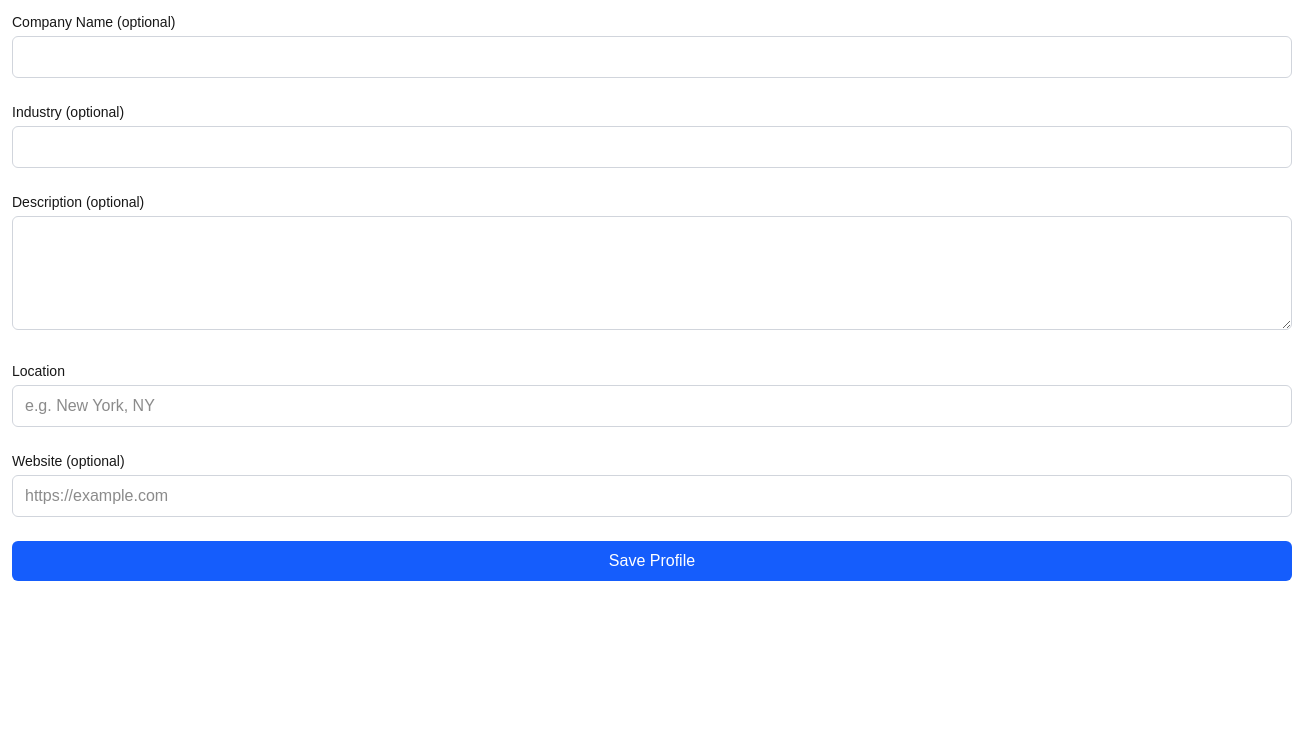
Test case: ClientProfileForm › validates required fields
// Submit without required fields
Click the button "Save Profile": point(652, 561) [12,541,1292,581]
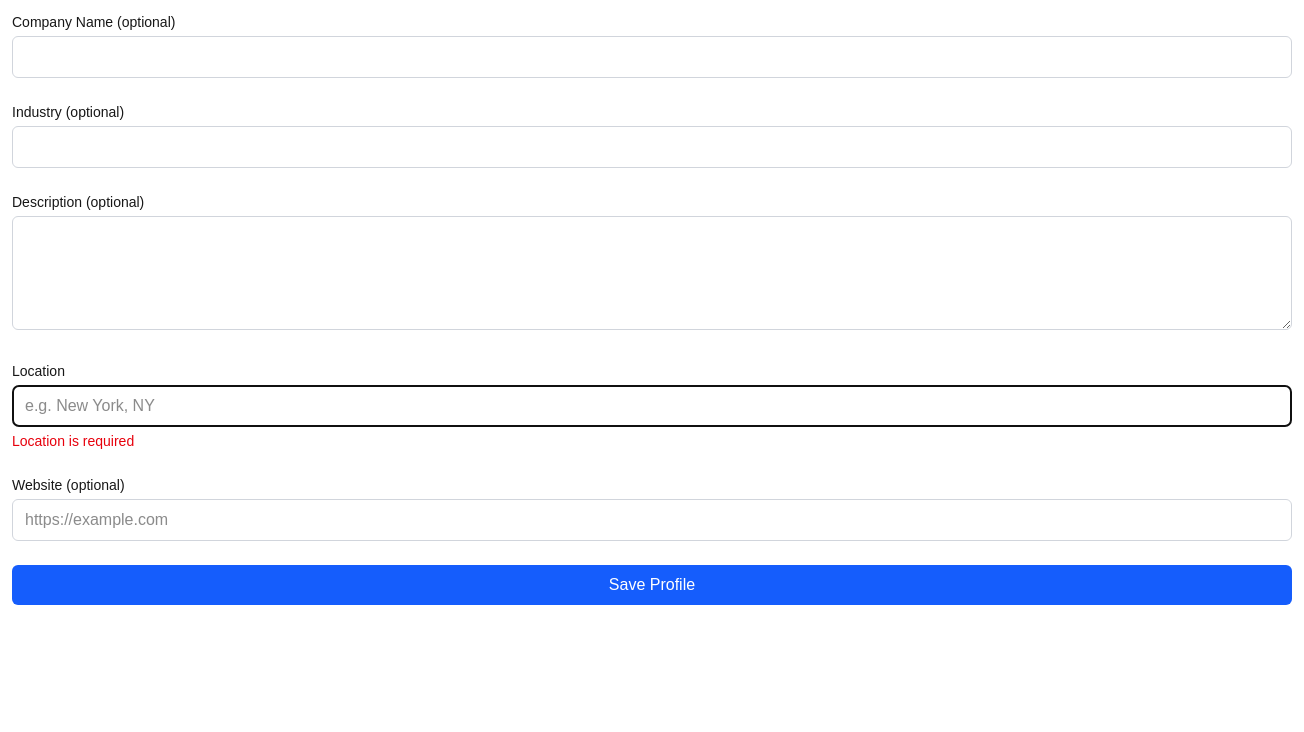
Expected: the text "Location is required" is shown, [12,433,134,449]
